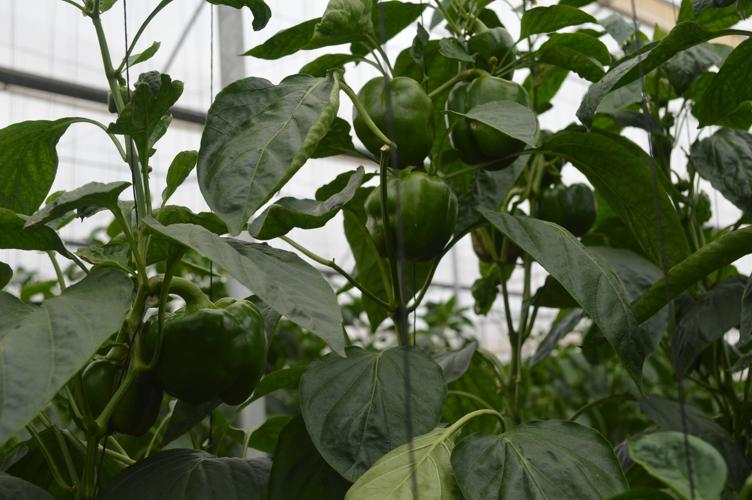BellPepper: (128, 294, 276, 406), (353, 175, 462, 262), (344, 67, 444, 158), (450, 69, 527, 162), (537, 180, 603, 235)
